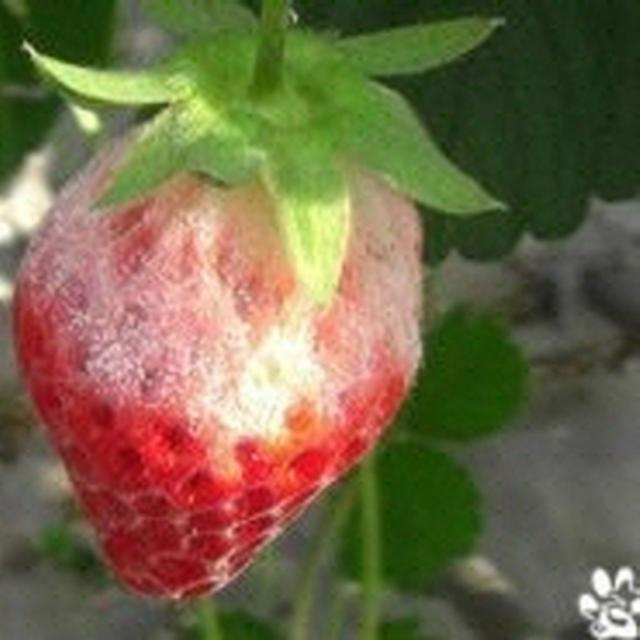Powdery Mildew Fruit: (11, 99, 429, 484)
